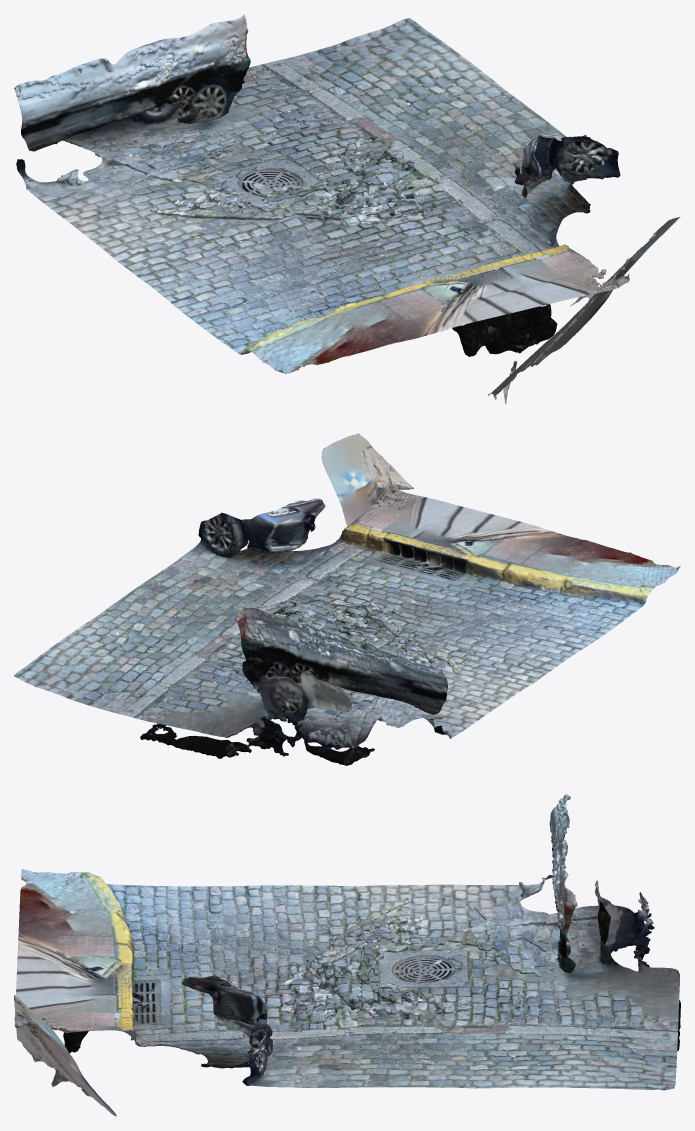
The model's file is alcantarilla2.glb.
The picture shows the model from 3 angles, top to bottom: view 1: azimuth 30°, elevation 25°; view 2: azimuth 150°, elevation 25°; view 3: azimuth 270°, elevation 25°; orthographic projection. The views are drawn at different scales.
Parts seen in each view (by area): view 1: Object; view 2: Object; view 3: Object.
Boxes of the visible parts, bbox=[...] form: Object: bbox=[14, 14, 680, 403]; Object: bbox=[14, 433, 680, 765]; Object: bbox=[14, 794, 680, 1116].
Bounding box in the file's own units: 5.28 × 2.44 × 6.73.
Materials: 1 (1 with a texture image).
